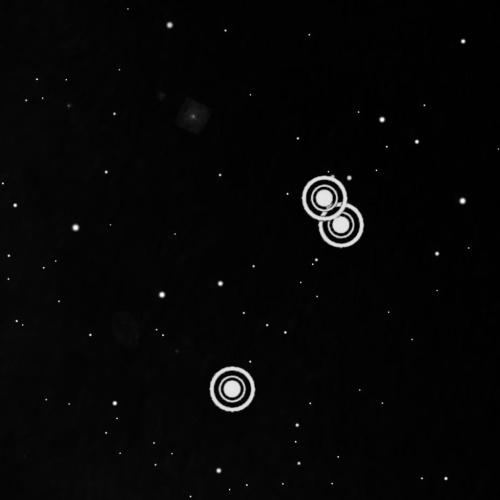canis_minor: (205, 169, 369, 418)
